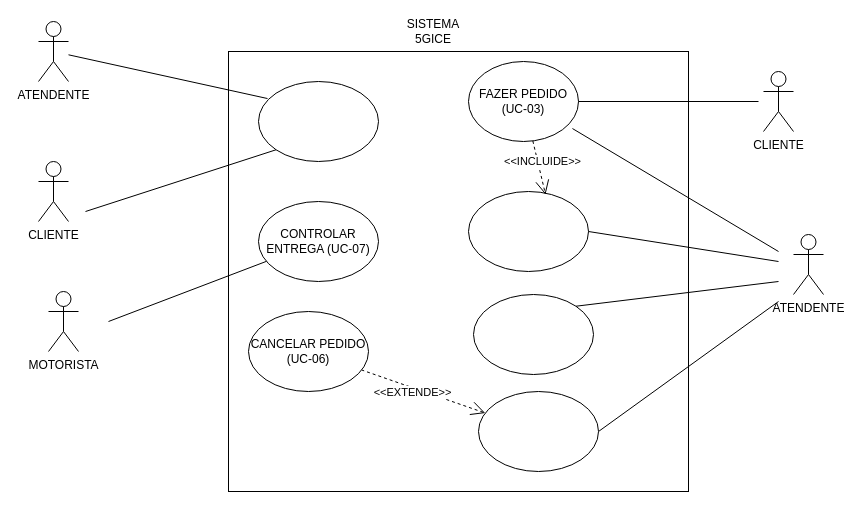
This 861x509 diagram has some shape labels left out. The shapes that lost their labels are listed below. From the top down, each one's box as (x1, y1, x2, y2) in pixels, then its label:
(258, 80, 378, 162): CADASTRAR CLIENTE (UC-02)
(468, 190, 588, 272): CONSULTA ESTOQUE (UC-04)
(472, 294, 594, 374): CADASTRAR PRUDUTO (UC-01)
(478, 390, 598, 472): CONSULTA PEDIDO (UC-05)
